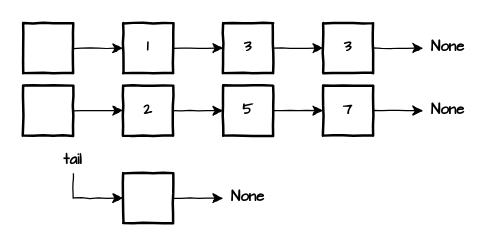
Image size: 494x245. Some labels were removed from this diagram. The box of each missing label's shape, as (x1, y1, x2, y2) in pixels:
dummy: (121, 171, 174, 224)
L1: (21, 21, 74, 74)
L2: (21, 84, 74, 136)
